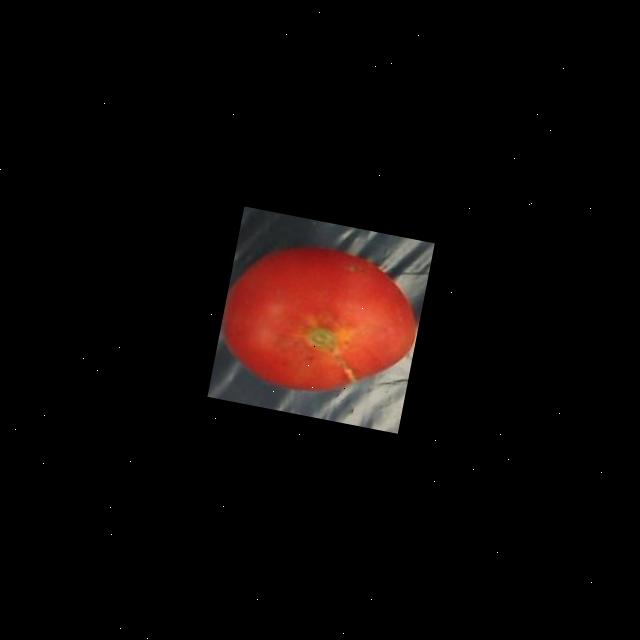tomato: (210, 227, 430, 416)
